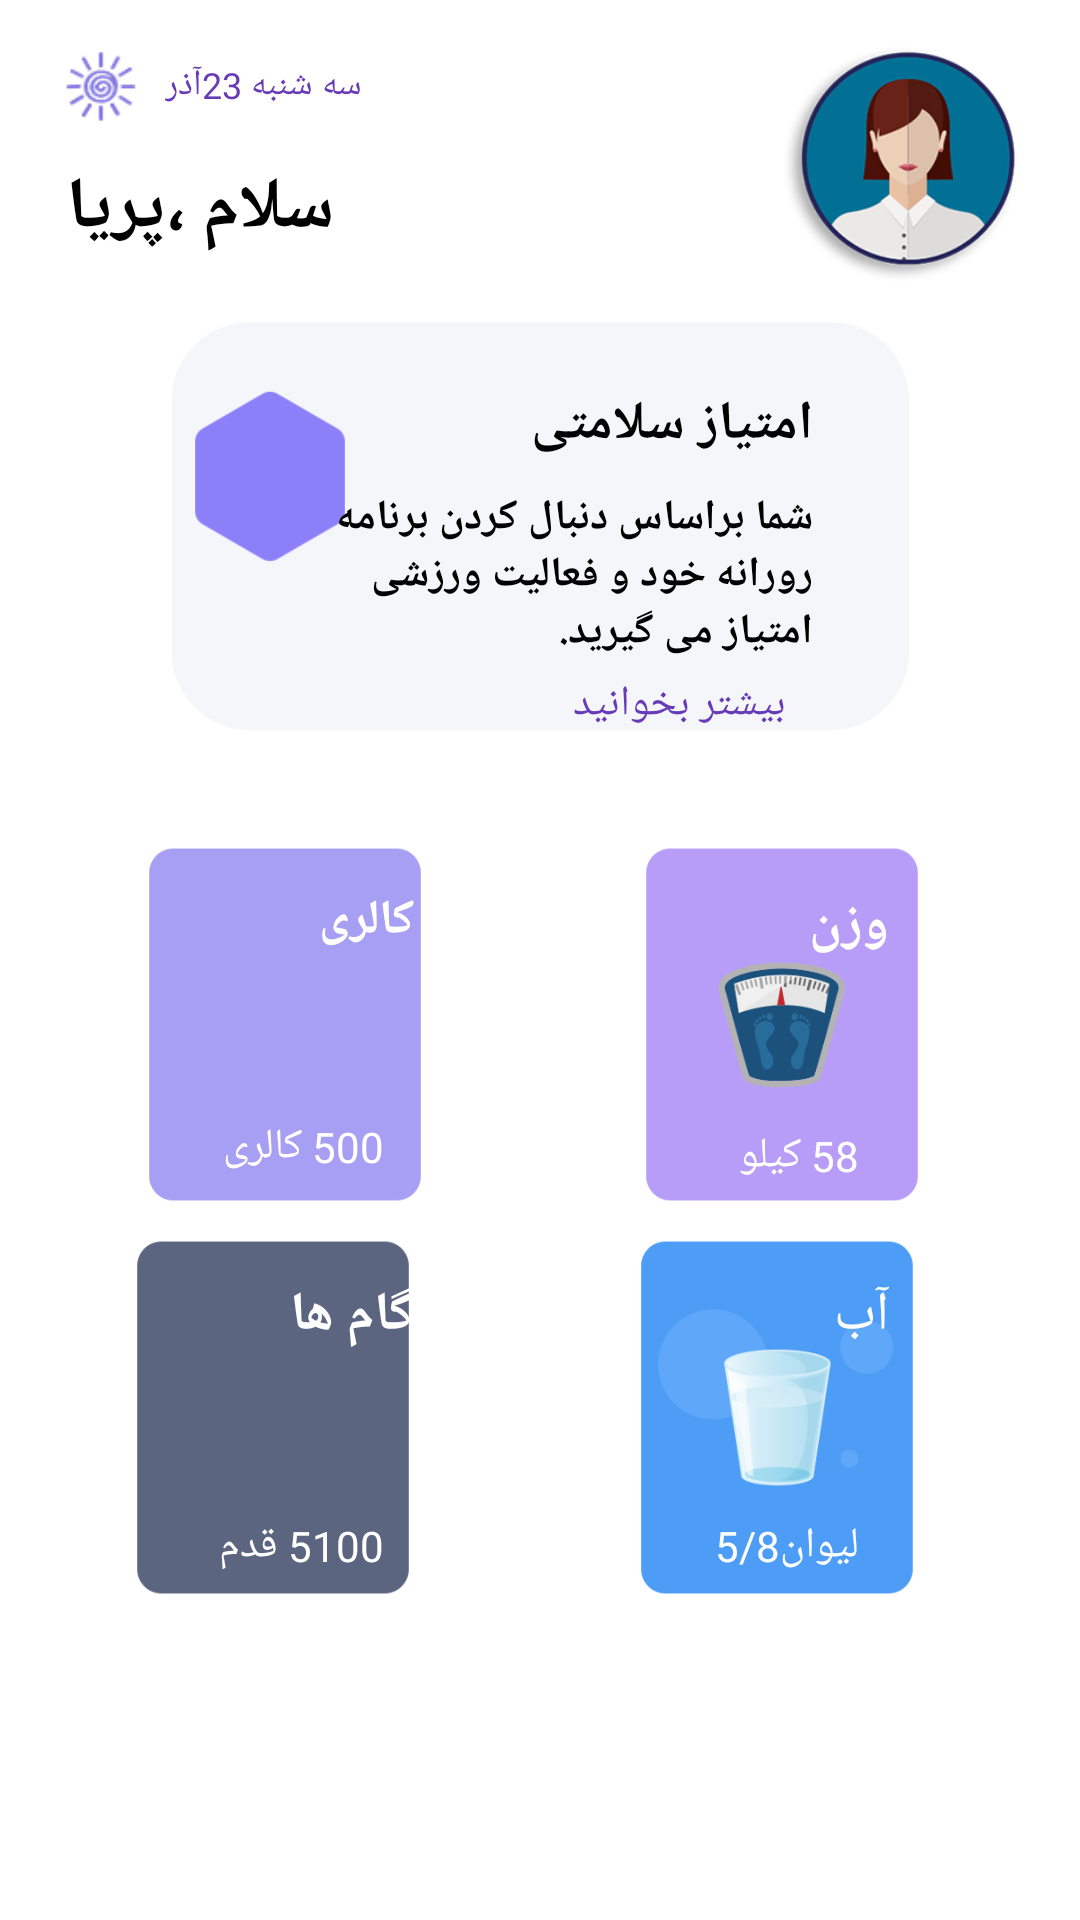

Where to tap for icons on this 1080x1920 app screen, as (x,y):
profile: (903,162)
sun: (101,86)
